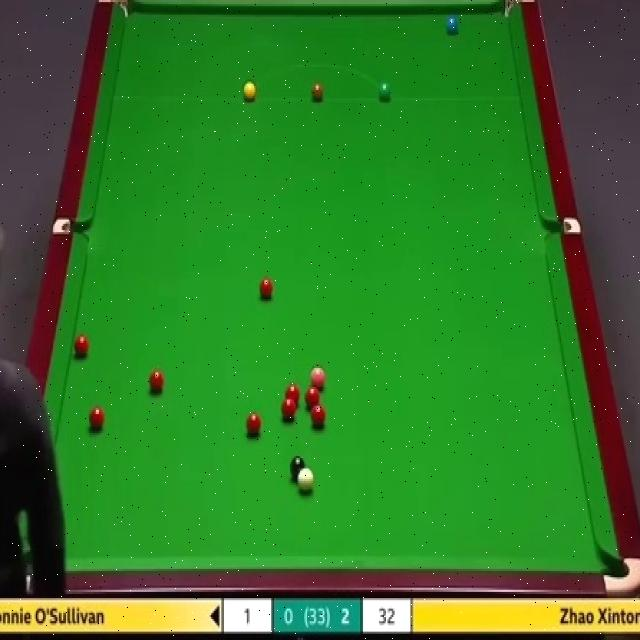black-ball: (290, 458, 305, 480)
blue-ball: (446, 16, 461, 34)
brown-ball: (311, 82, 325, 102)
green-ball: (377, 82, 392, 104)
pink-ball: (310, 363, 326, 389)
red-ball: (245, 411, 262, 439), (74, 334, 92, 359), (88, 406, 105, 431), (310, 402, 326, 427), (148, 370, 165, 393), (258, 278, 274, 301), (285, 383, 300, 407), (304, 386, 320, 408), (282, 398, 296, 421)
white-ball: (296, 465, 314, 497)
yellow-ball: (242, 81, 257, 102)
